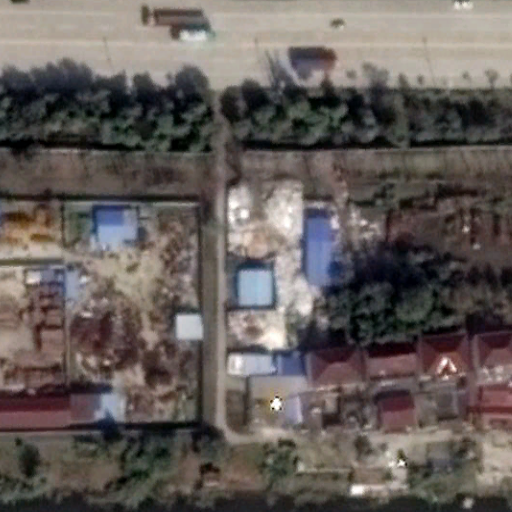msw: (229, 177, 305, 358)
